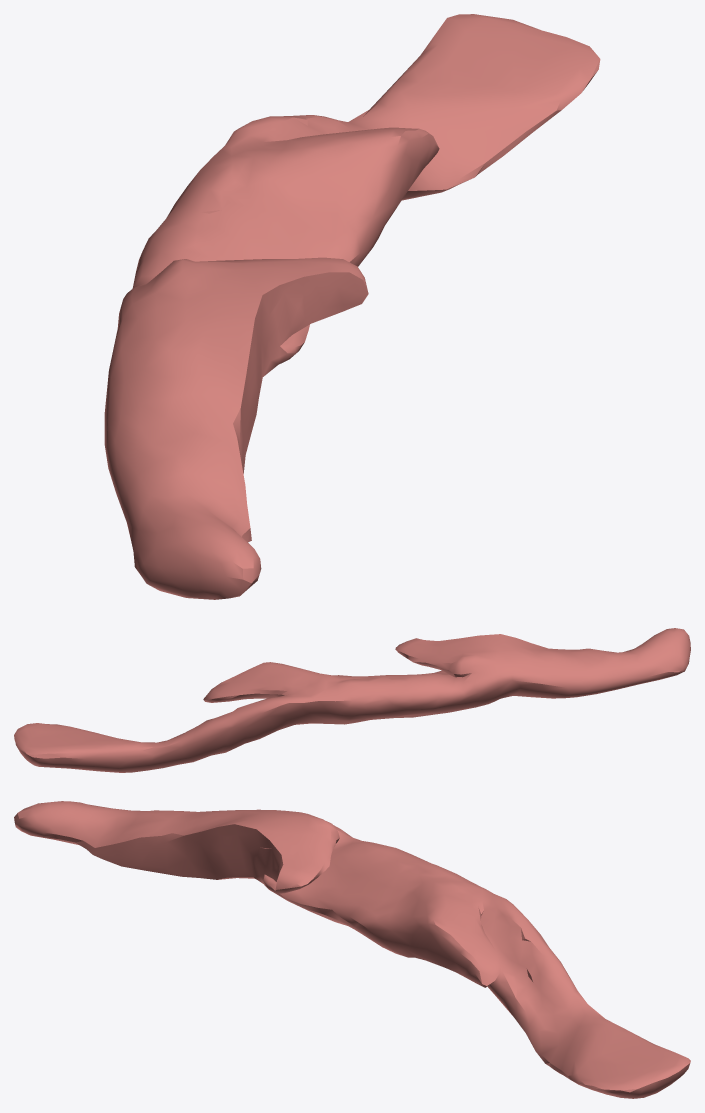
Rendered from fma46021_mm1731.glb.
The picture shows the model from 3 angles, top to bottom: view 1: azimuth 30°, elevation 25°; view 2: azimuth 150°, elevation 25°; view 3: azimuth 270°, elevation 25°; orthographic projection. The views are drawn at different scales.
Visible parts, largest first — view 1: FMA46021_MM1731; view 2: FMA46021_MM1731; view 3: FMA46021_MM1731.
Part boxes in pixels (left/top/right/bottom): FMA46021_MM1731: left=104, top=14, right=600, bottom=599; FMA46021_MM1731: left=14, top=628, right=690, bottom=772; FMA46021_MM1731: left=14, top=801, right=690, bottom=1098.
Size of the model in its own units: 0.0443 by 0.00842 by 0.0475.
